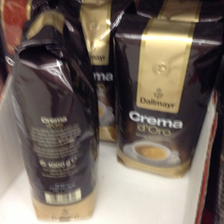coffee: (9, 7, 99, 224), (113, 13, 223, 178)
